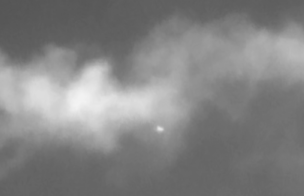Target: (157, 126, 163, 130)
